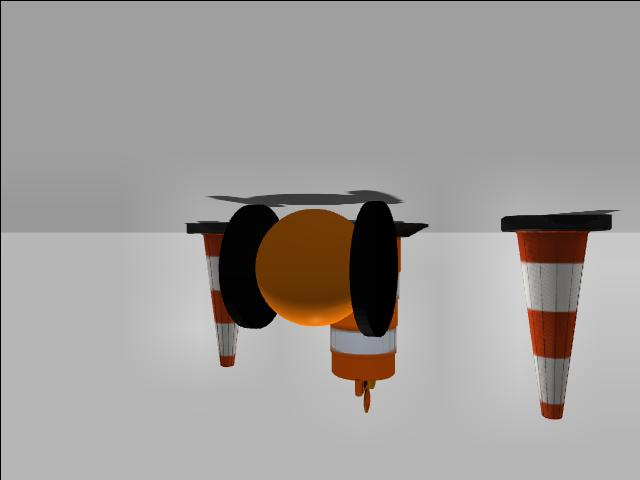target: (218, 198, 396, 336)
